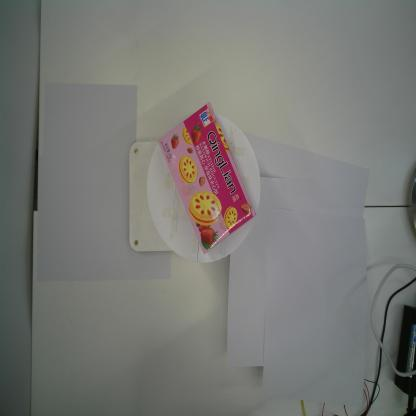Dessert: (157, 100, 258, 257)
